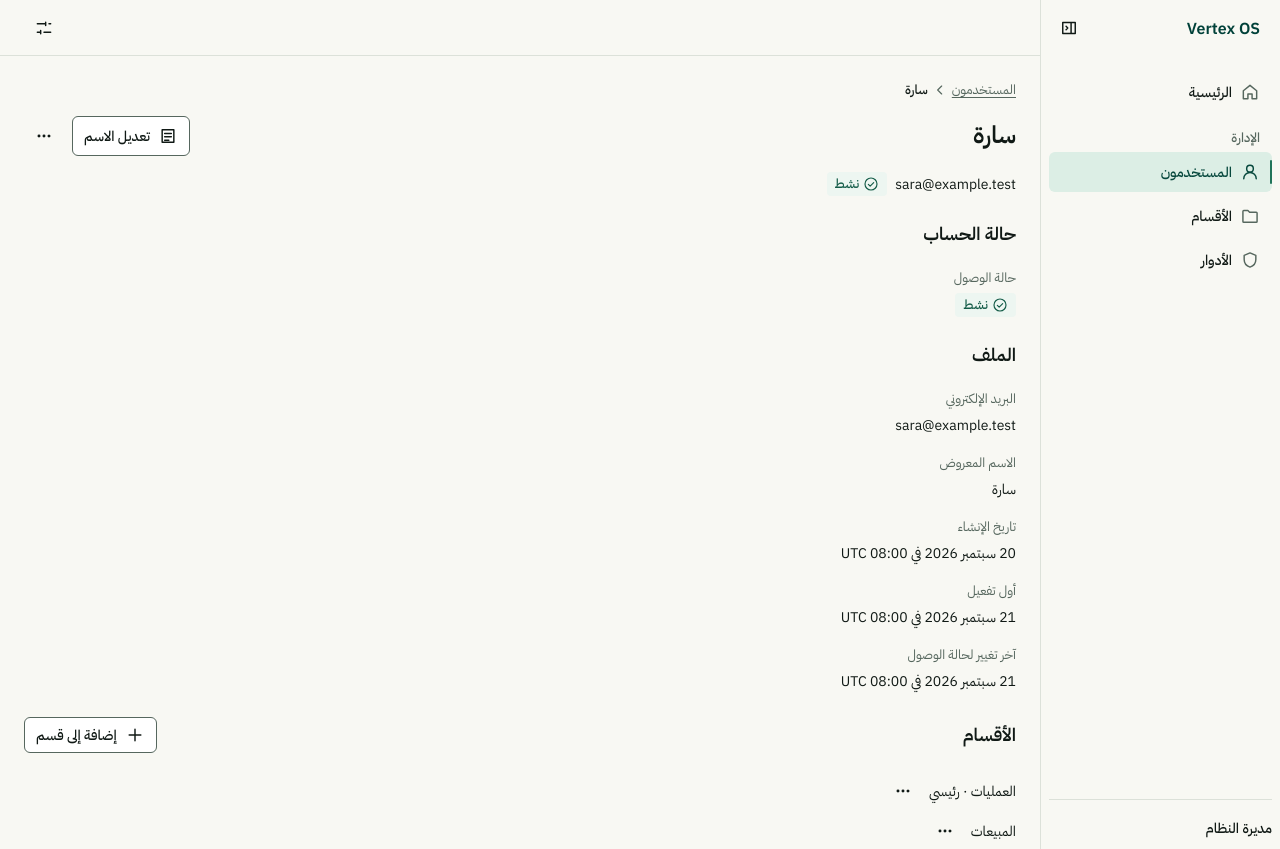
it: the user detail › warns when the target is the signed-in administrator
What coordinates should you click on to do the following:
click the button named "إجراءات المستخدم"
I would click on:
 (44, 136)
Its box is [24,116,64,156].
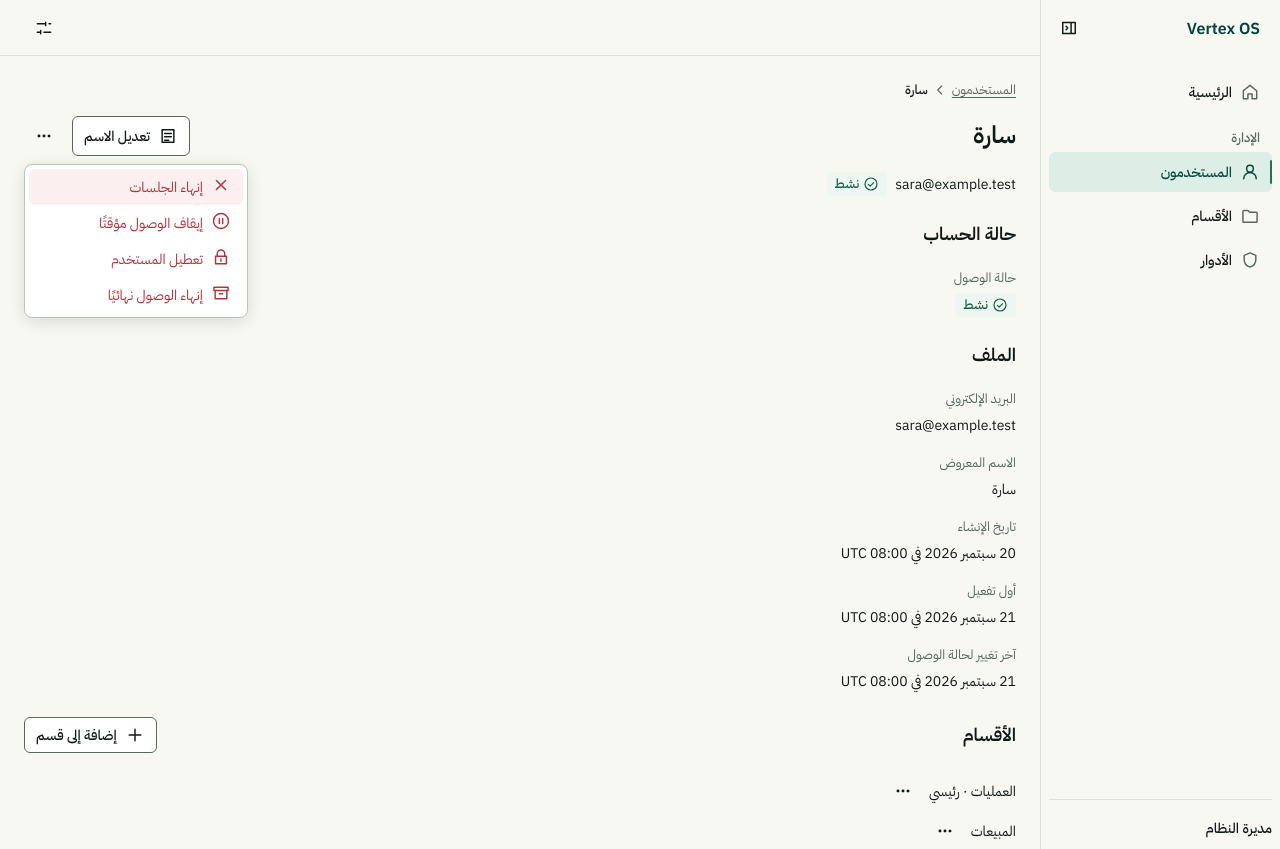
What coordinates should you click on to do the following:
click the menu item "إنهاء الجلسات"
I would click on:
 (136, 187)
Its box is [29,169,243,205].
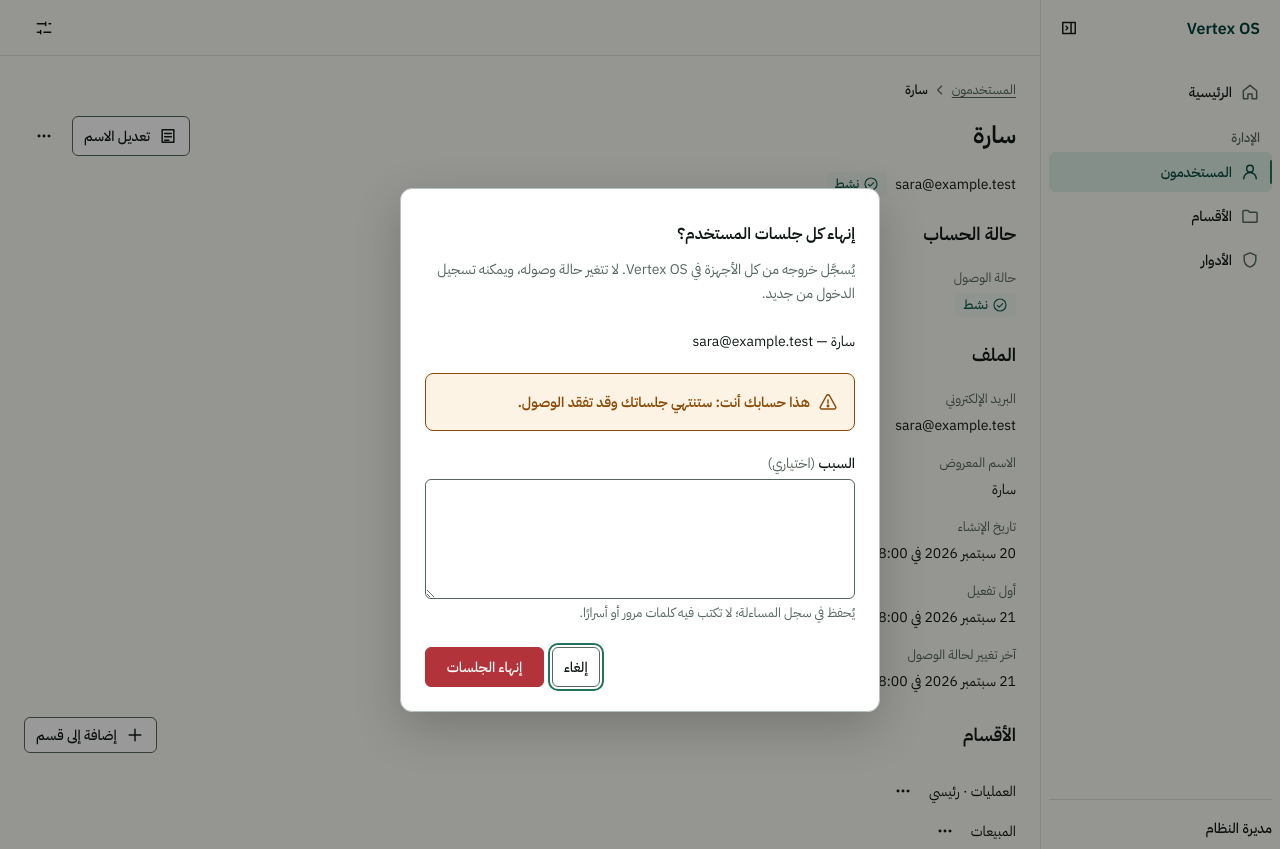
Now the dialog shows "هذا حسابك أنت", box [518,393,810,411]
